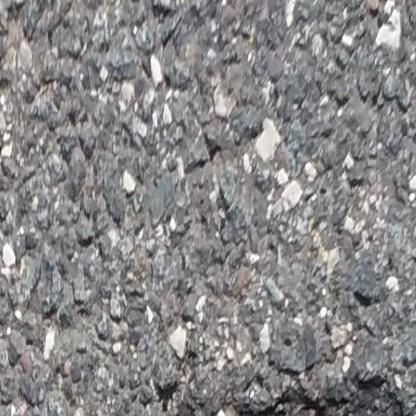Cracks: (155, 371, 416, 416)
